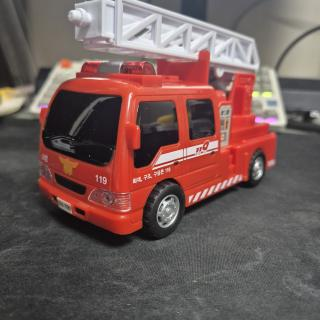Fire_truck: (39, 0, 276, 238)
